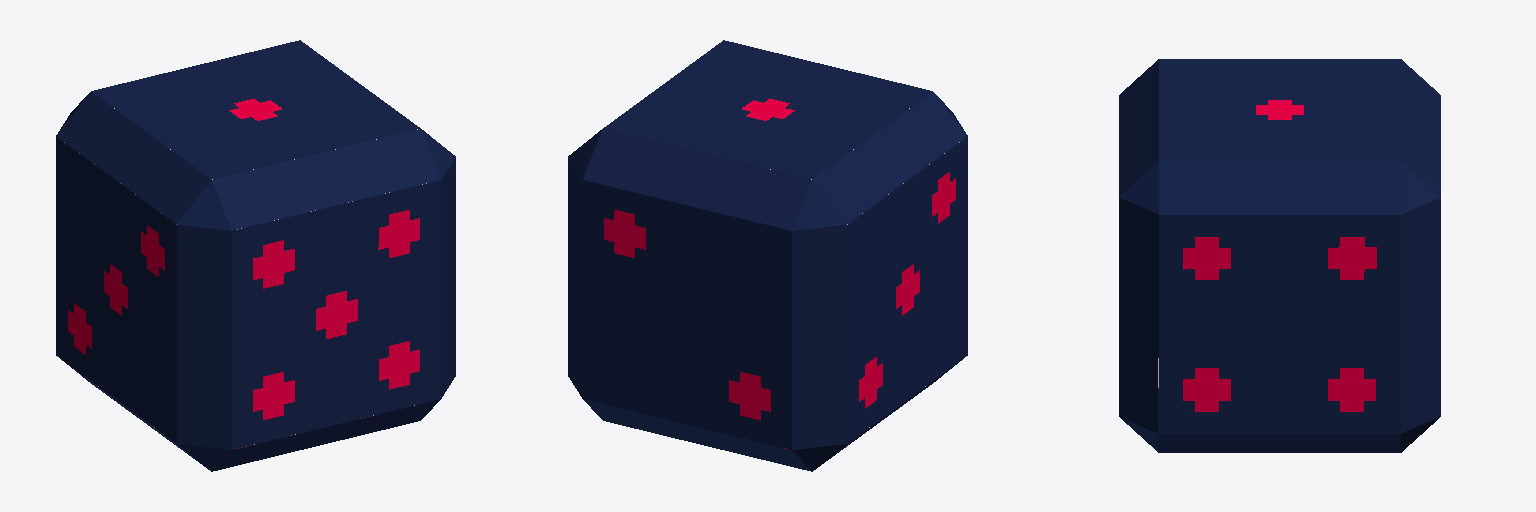
3 views of the same model, side by side, from view 1: azimuth 30°, elevation 25°; view 2: azimuth 150°, elevation 25°; view 3: azimuth 270°, elevation 25° (orthographic).
Visible parts, largest first — view 1: die; view 2: die; view 3: die.
Boxes of the visible parts, <box> form: die: <box>56,40,455,471</box>; die: <box>568,40,967,471</box>; die: <box>1119,59,1440,452</box>.
Bounding box in the file's own units: 2 × 2 × 2.
1 materials, 1 textured.